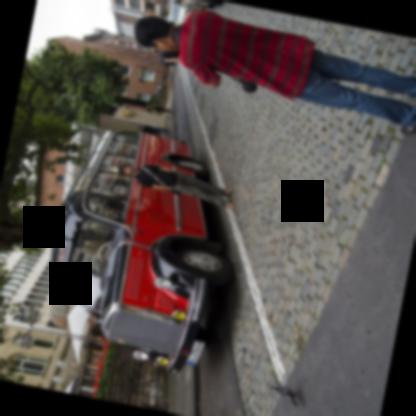handbag: (139, 165, 181, 194)
